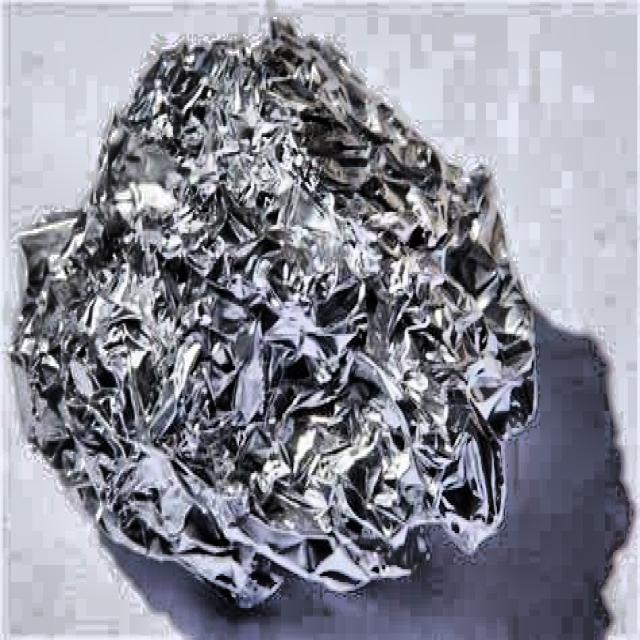Foil: (4, 8, 548, 619)
